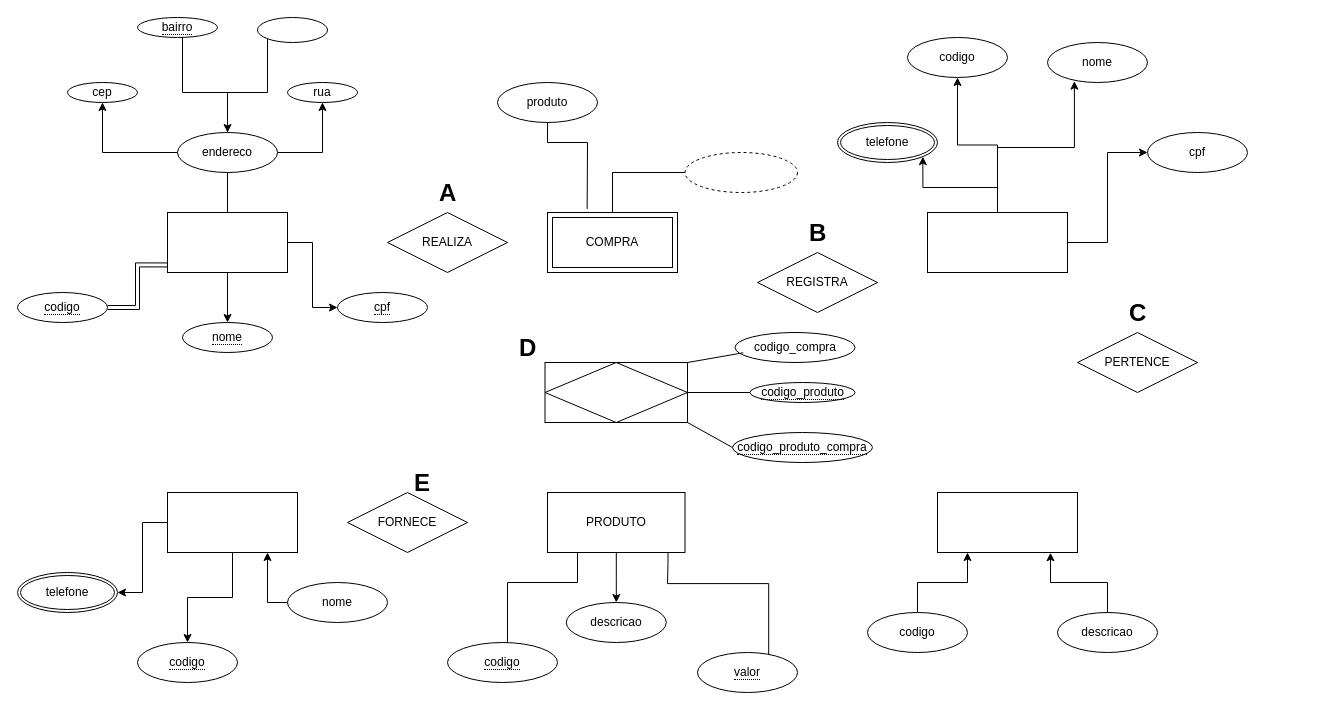
This 1325x710 diagram has some shape labels left out. The centre of each missing label's shape, as x and y in pixels:
"CLIENTE" goes at point 227,242.
"CONTEM produto_compra" goes at point 616,392.
"DEPARTAMENTO" goes at point 1007,522.
"FORNECEDOR" goes at point 232,522.
"FUNCIONARIO" goes at point 997,242.
"numero" goes at point 292,29.
"quantidade_produto" goes at point 741,172.
